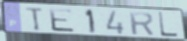1: (83, 8, 98, 35)
4: (105, 10, 128, 36)
E: (48, 7, 77, 33)
L: (157, 11, 179, 38)
R: (128, 11, 157, 36)
T: (24, 6, 45, 32)
